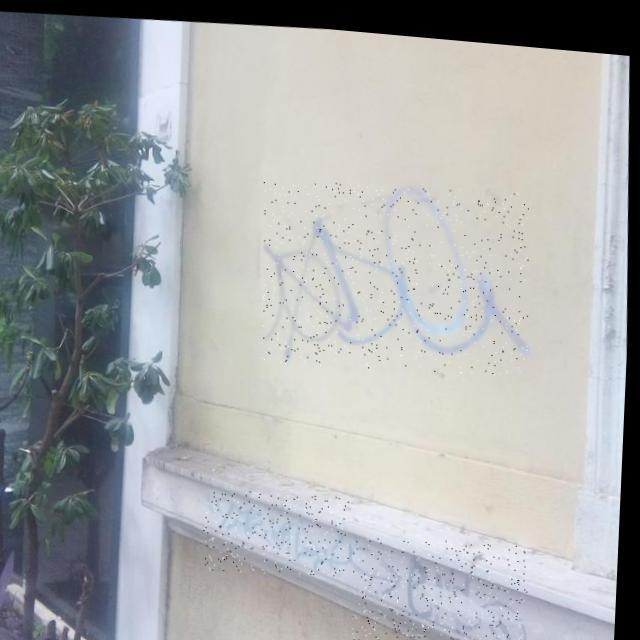-: (258, 164, 538, 376), (354, 521, 536, 640), (205, 480, 356, 576)
